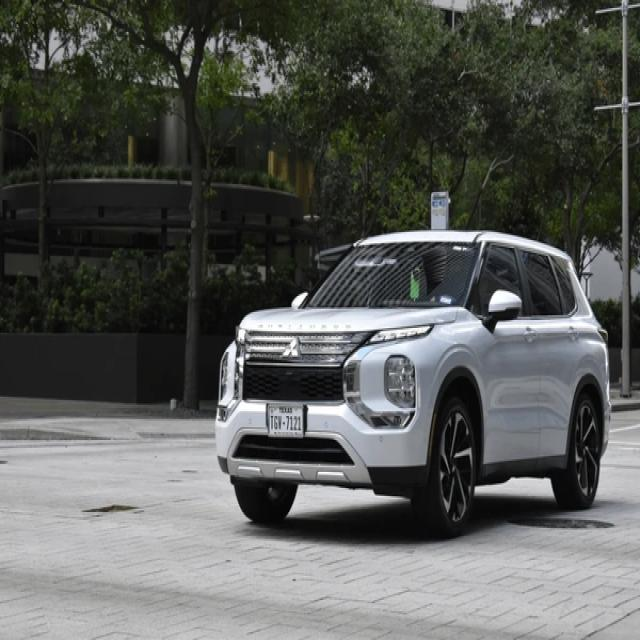mitsubishi: (282, 334, 301, 362)
